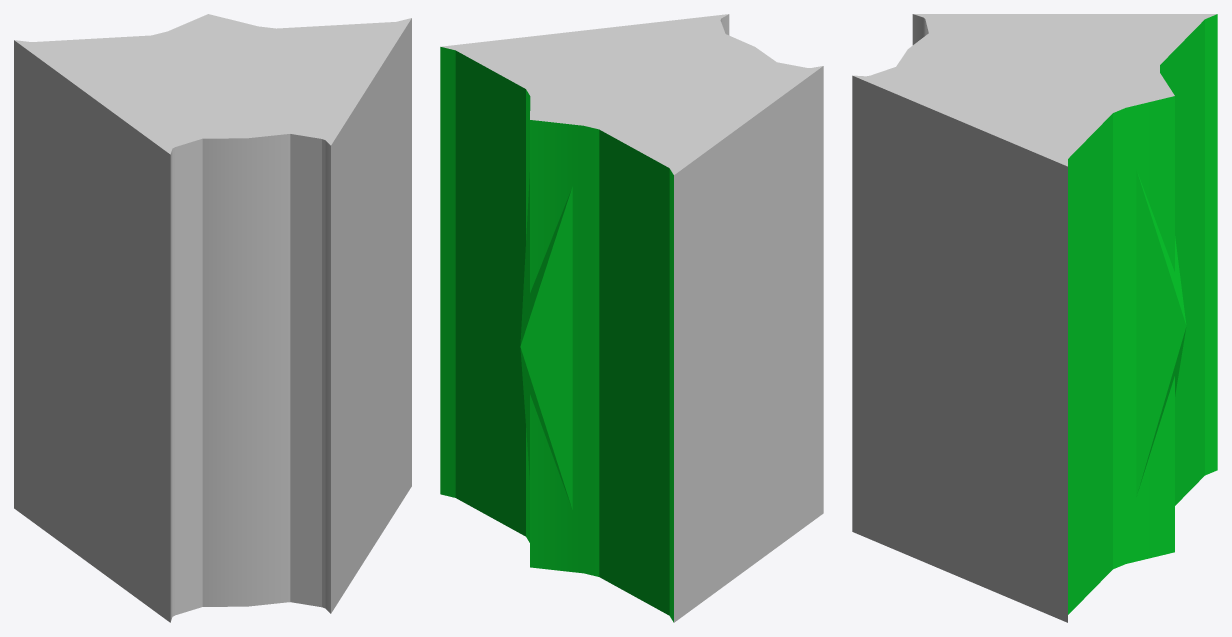
File: stack_low_poly.fbx
3 renders of one model, left to right at view 1: azimuth 30°, elevation 25°; view 2: azimuth 150°, elevation 25°; view 3: azimuth 270°, elevation 25°, orthographic. The views are drawn at different scales.
Visible parts, largest first — view 1: stack_lp_8_03, stack_lp_8_07, stack_lp_8_05, stack_lp_8_01, stack_lp_8_08, stack_lp_8_04, stack_lp_8_06, stack_lp_8_02; view 2: stack_lp_8_01, stack_lp_8_08, stack_lp_8_02, stack_lp_8_05, stack_lp_8_03, stack_lp_8_04, stack_lp_8_06, stack_lp_8_07; view 3: stack_lp_8_08, stack_lp_8_01, stack_lp_8_04, stack_lp_8_03, stack_lp_8_05, stack_lp_8_06, stack_lp_8_02, stack_lp_8_07.
Boxes of the visible parts, left/top/right/bottom form: stack_lp_8_03: left=14, top=18, right=411, bottom=606; stack_lp_8_07: left=53, top=20, right=321, bottom=616; stack_lp_8_05: left=65, top=30, right=385, bottom=616; stack_lp_8_01: left=18, top=22, right=394, bottom=605; stack_lp_8_08: left=130, top=14, right=379, bottom=622; stack_lp_8_04: left=36, top=56, right=155, bottom=611; stack_lp_8_06: left=14, top=19, right=411, bottom=552; stack_lp_8_02: left=37, top=30, right=398, bottom=564; stack_lp_8_01: left=455, top=44, right=787, bottom=619; stack_lp_8_08: left=517, top=14, right=823, bottom=576; stack_lp_8_02: left=497, top=49, right=806, bottom=606; stack_lp_8_05: left=523, top=14, right=819, bottom=551; stack_lp_8_03: left=440, top=31, right=793, bottom=622; stack_lp_8_04: left=520, top=76, right=809, bottom=549; stack_lp_8_06: left=606, top=127, right=721, bottom=430; stack_lp_8_07: left=533, top=20, right=804, bottom=144; stack_lp_8_08: left=852, top=14, right=1174, bottom=586; stack_lp_8_01: left=885, top=19, right=1204, bottom=620; stack_lp_8_04: left=872, top=132, right=1186, bottom=609; stack_lp_8_03: left=893, top=14, right=1217, bottom=622; stack_lp_8_05: left=858, top=14, right=1151, bottom=137; stack_lp_8_06: left=915, top=108, right=1085, bottom=622; stack_lp_8_02: left=918, top=14, right=1169, bottom=395; stack_lp_8_07: left=860, top=19, right=1161, bottom=599.
Size of what is drawn, in the model's own units: 0.7177 by 1 by 0.7258.
